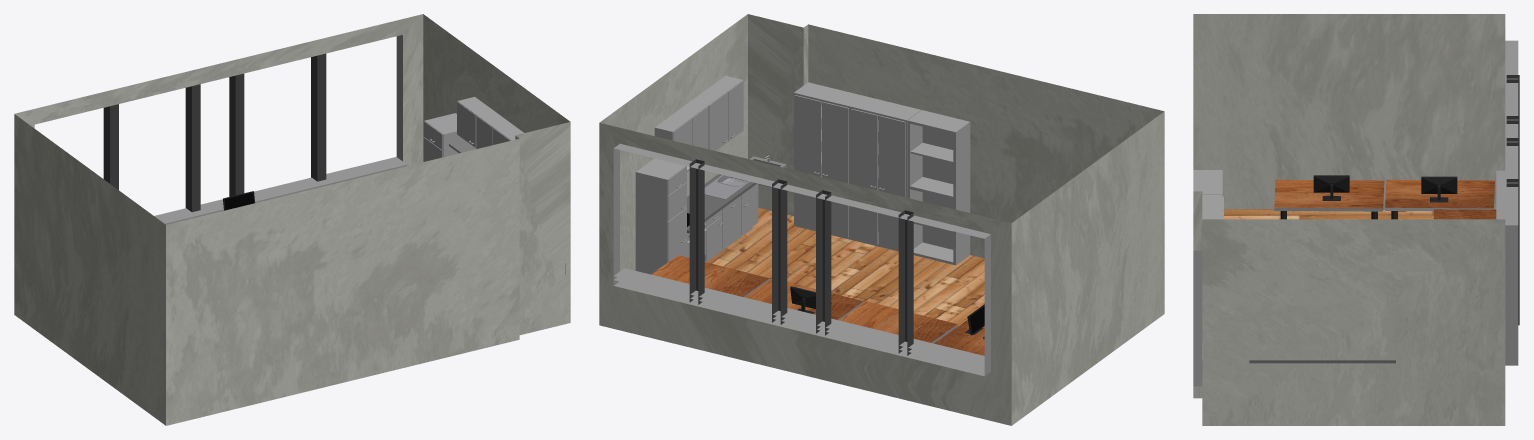
File: garching_kitchen.dae
3 renders of one model, left to right at view 1: azimuth 30°, elevation 25°; view 2: azimuth 150°, elevation 25°; view 3: azimuth 270°, elevation 25°, orthographic. The views are drawn at different scales.
Visible parts, largest first — view 1: Mesh_002; view 2: Mesh_002; view 3: Mesh_002.
Part boxes in pixels (box(x1,y1,x2,y2)): Mesh_002: box(14, 14, 570, 425); Mesh_002: box(599, 14, 1164, 425); Mesh_002: box(1193, 14, 1519, 425).
Bounding box in the file's own units: 7.45 × 5.01 × 3.5.
Materials: 28 (1 with a texture image).
